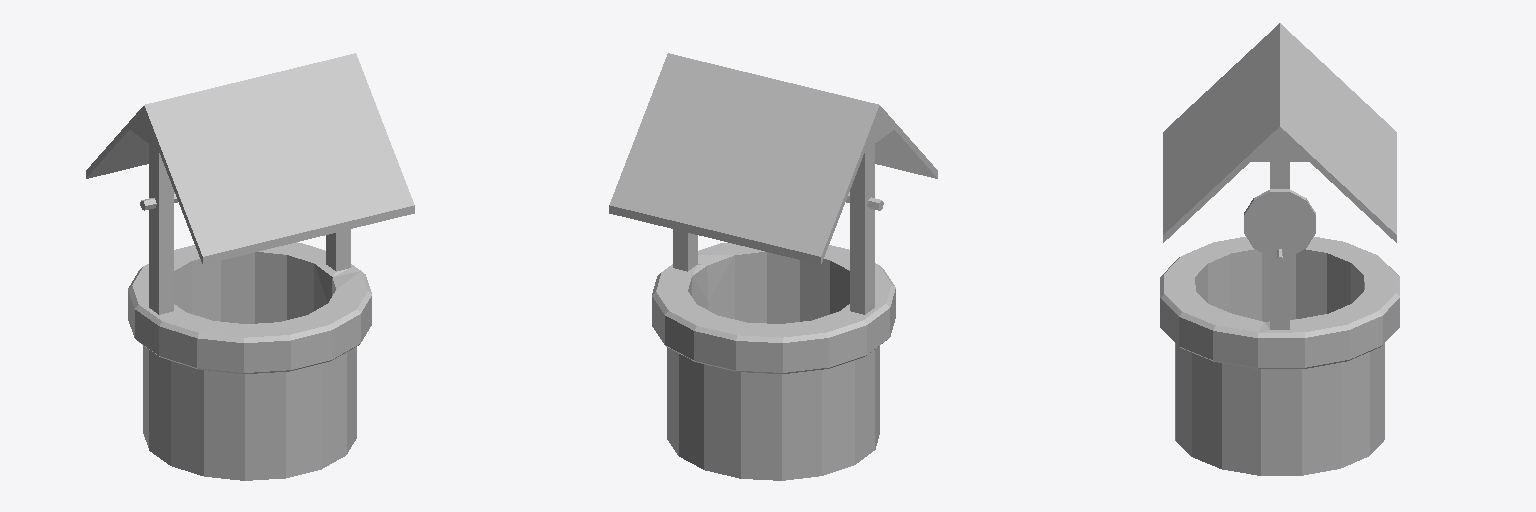
File: well.obj
3 renders of one model, left to right at view 1: azimuth 30°, elevation 25°; view 2: azimuth 150°, elevation 25°; view 3: azimuth 270°, elevation 25°, orthographic.
Visible parts, largest first — view 1: well.covered; view 2: well.covered; view 3: well.covered.
Part boxes in pixels (x1,y1,x2,y2): well.covered: (86, 53, 414, 480); well.covered: (609, 53, 937, 480); well.covered: (1160, 23, 1399, 475).
Size of the model in its own units: 2.14 by 3.22 by 1.97.